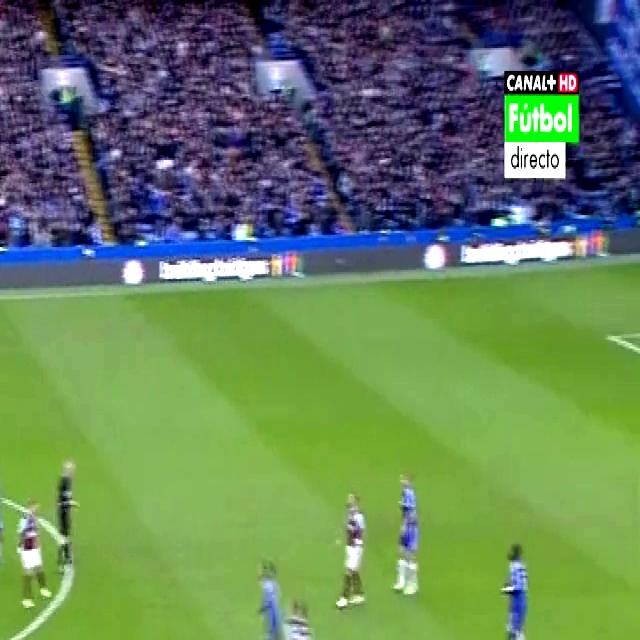referee: (46, 438, 86, 577)
soccer-player: (388, 454, 429, 606), (329, 470, 371, 618), (492, 510, 536, 640), (15, 492, 54, 618), (254, 540, 290, 640), (277, 585, 326, 640), (0, 439, 7, 573)
